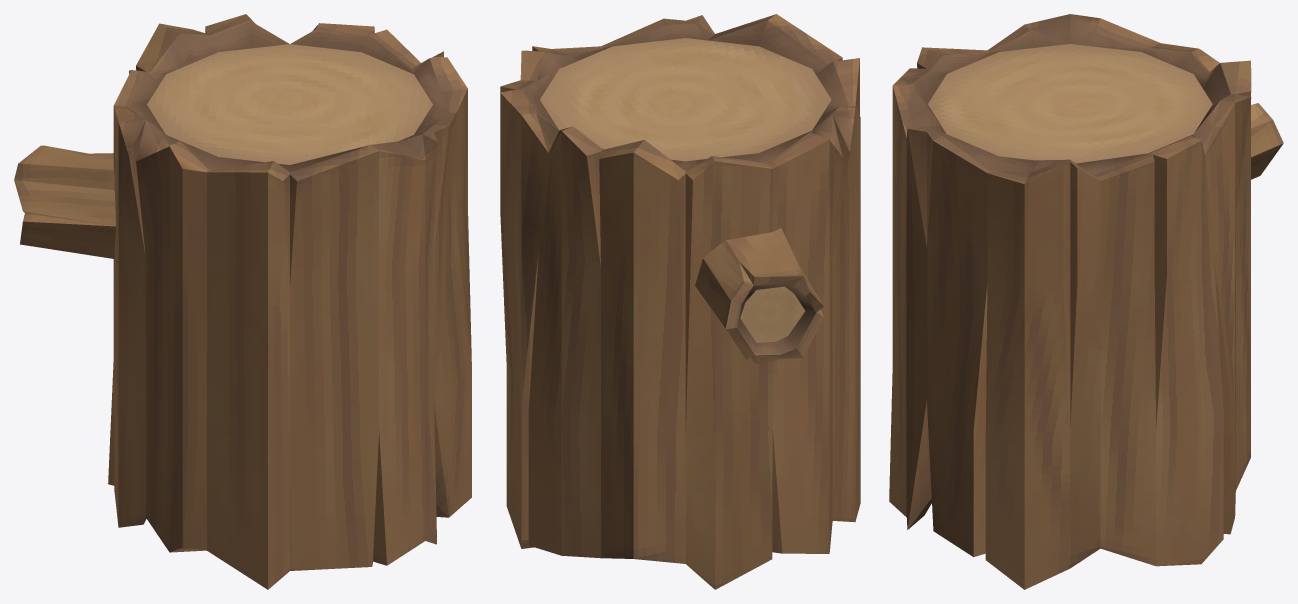
Rendered from Tronco.glb.
The picture shows the model from 3 angles, left to right: view 1: azimuth 30°, elevation 25°; view 2: azimuth 150°, elevation 25°; view 3: azimuth 270°, elevation 25°; orthographic projection. The views are drawn at different scales.
Visible parts, largest first — view 1: log_obj; view 2: log_obj; view 3: log_obj.
Boxes of the visible parts, left/top/right/bottom form: log_obj: left=14, top=14, right=471, bottom=589; log_obj: left=500, top=14, right=860, bottom=589; log_obj: left=889, top=14, right=1283, bottom=589.
Bounding box in the file's own units: 0.025 × 0.0293 × 0.0239.
1 material, 1 textured.
